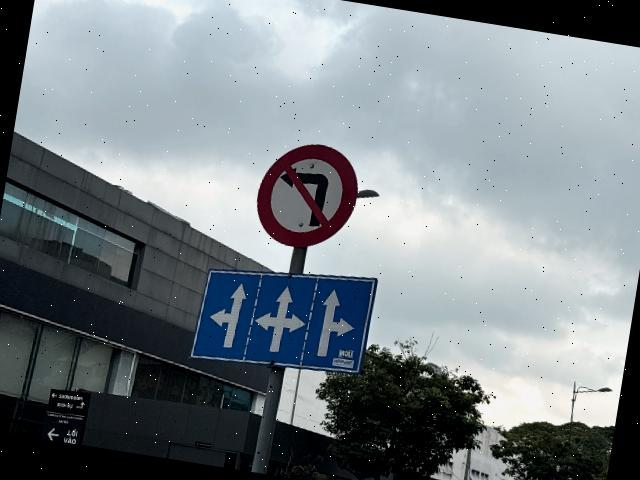cam-re-trai: (248, 135, 364, 257)
